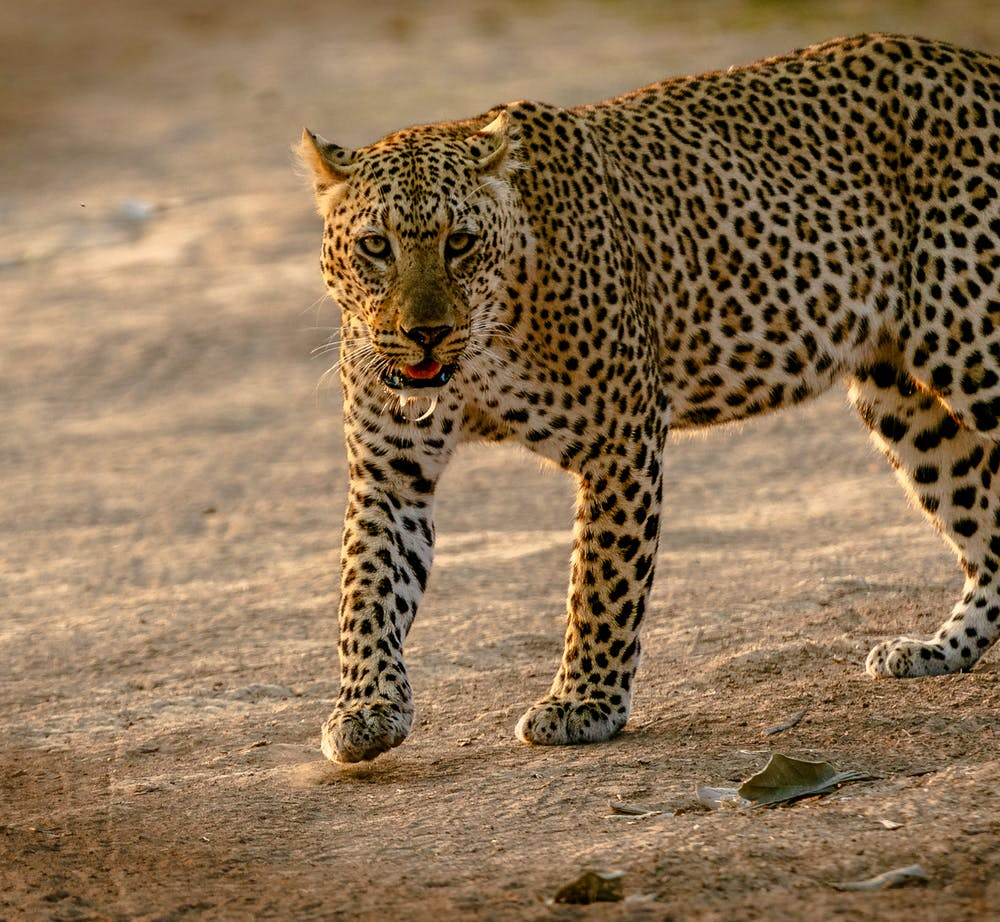cheetah: (260, 109, 532, 395)
